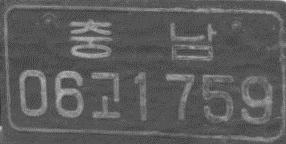0: (17, 68, 48, 118)
1: (127, 71, 159, 122)
5: (201, 74, 234, 123)
6: (53, 70, 83, 118)
7: (165, 72, 196, 120)
9: (240, 75, 272, 125)
고: (90, 71, 122, 119)
충남_D: (68, 18, 216, 62)
